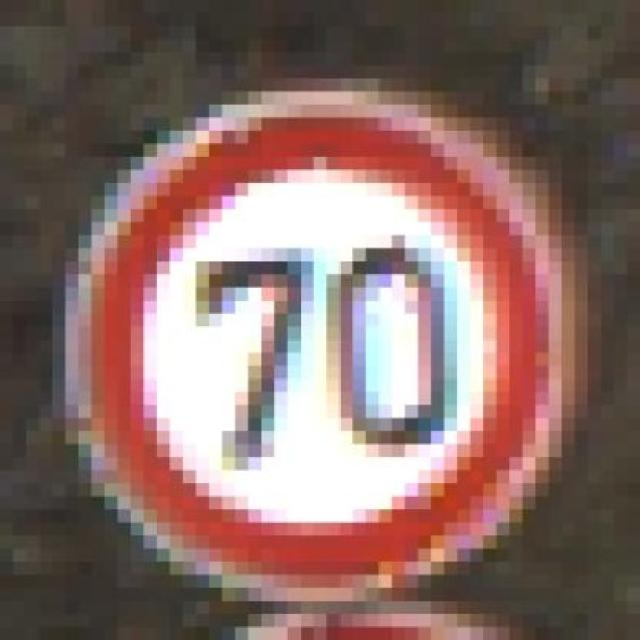forb_speed_over_70: (90, 110, 555, 578)
